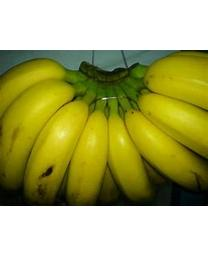banana: (0, 52, 206, 201)
